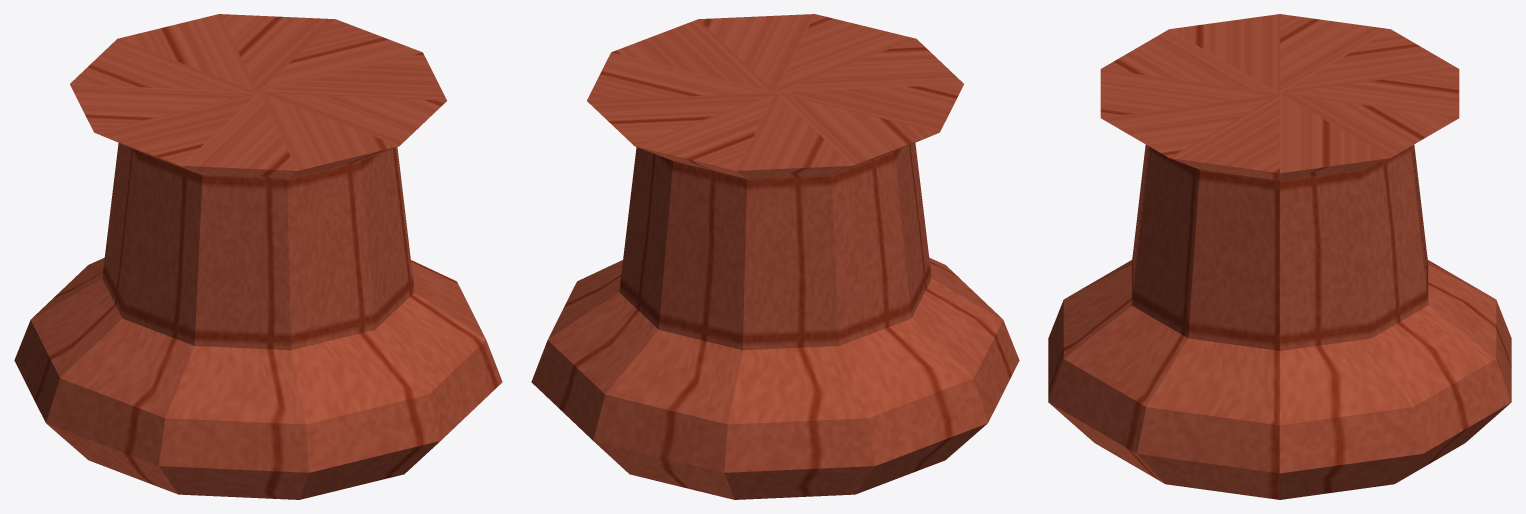
The model's file is planter.obj.
The picture shows the model from 3 angles, left to right: view 1: azimuth 30°, elevation 25°; view 2: azimuth 150°, elevation 25°; view 3: azimuth 270°, elevation 25°; orthographic projection.
Size of the model in its own units: 1.5 by 1.1 by 1.43.
Materials: 1 (1 with a texture image).
